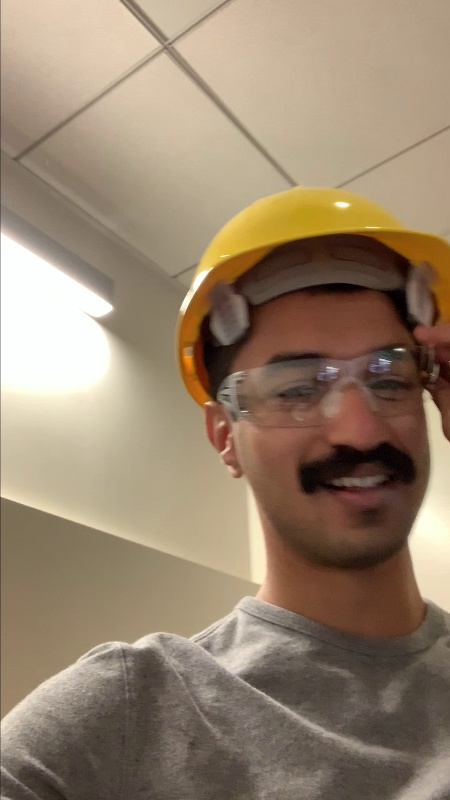glasses: (234, 355, 450, 422)
helmet: (190, 185, 445, 286)
